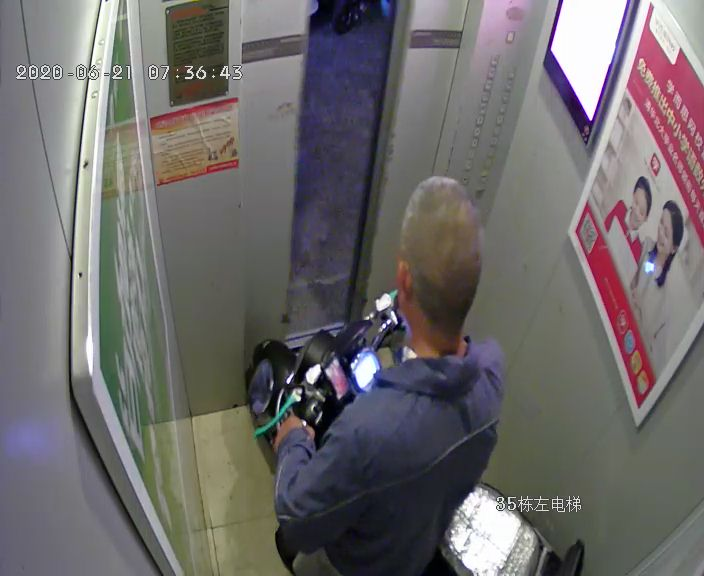Electric-bicycle: (251, 283, 579, 576)
